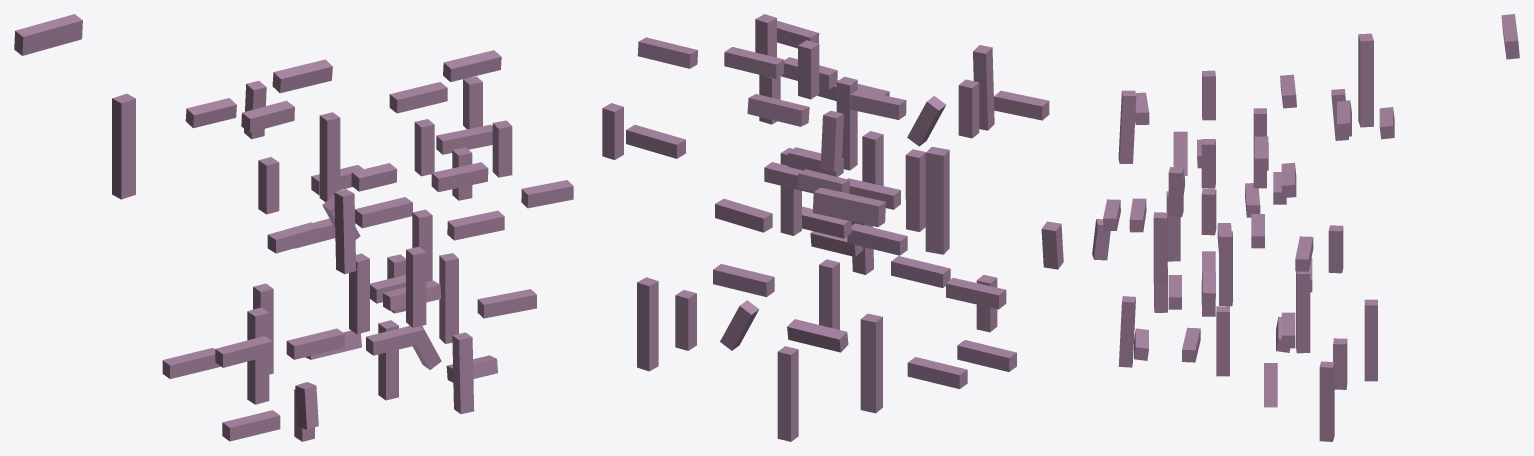
The model's file is StartScreen.fbx.
The picture shows the model from 3 angles, left to right: view 1: azimuth 30°, elevation 25°; view 2: azimuth 150°, elevation 25°; view 3: azimuth 270°, elevation 25°; orthographic projection. The views are drawn at different scales.
Visible parts, largest first — view 1: pCube21, pCube19, pCube25, pCube41, pCube17, pCube12, pCube15, pCube37, pCube34, pCube24, pCube49, pCube9 (+29 smaller); view 2: pCube21, pCube12, pCube13, pCube17, pCube19, pCube34, pCube25, pCube41, pCube14, pCube8, pCube24, pCube6 (+33 smaller); view 3: pCube21, pCube17, pCube12, pCube13, pCube41, pCube37, pCube38, pCube15, pCube14, pCube51, pCube52, pCube16 (+26 smaller).
Part boxes in pixels (<box>): pCube21: <box>112,93,135,199</box>; pCube19: <box>14,14,82,55</box>; pCube25: <box>319,112,340,202</box>; pCube41: <box>334,189,356,274</box>; pCube17: <box>439,253,458,343</box>; pCube12: <box>247,307,269,404</box>; pCube15: <box>452,332,474,413</box>; pCube37: <box>406,246,426,327</box>; pCube34: <box>349,253,369,334</box>; pCube24: <box>272,59,332,93</box>; pCube49: <box>443,50,501,81</box>; pCube9: <box>477,289,536,318</box>; pCube21: <box>925,146,949,254</box>; pCube12: <box>860,313,882,413</box>; pCube13: <box>777,346,798,441</box>; pCube17: <box>637,277,658,371</box>; pCube19: <box>812,187,885,226</box>; pCube34: <box>905,149,925,231</box>; pCube25: <box>836,76,857,170</box>; pCube41: <box>973,45,994,130</box>; pCube14: <box>819,259,839,329</box>; pCube8: <box>713,264,774,297</box>; pCube24: <box>747,94,809,126</box>; pCube6: <box>787,319,848,352</box>; pCube21: <box>1358,33,1373,127</box>; pCube17: <box>1319,361,1334,441</box>; pCube12: <box>1296,268,1310,353</box>; pCube13: <box>1364,299,1377,381</box>; pCube41: <box>1118,90,1136,163</box>; pCube37: <box>1153,212,1167,283</box>; pCube38: <box>1219,231,1232,306</box>; pCube15: <box>1118,296,1135,367</box>; pCube14: <box>1216,306,1229,376</box>; pCube51: <box>1168,167,1183,217</box>; pCube52: <box>1328,225,1343,273</box>; pCube16: <box>1333,338,1347,389</box>.
Size of the model in its own units: 22.89 by 19.42 by 25.89.
